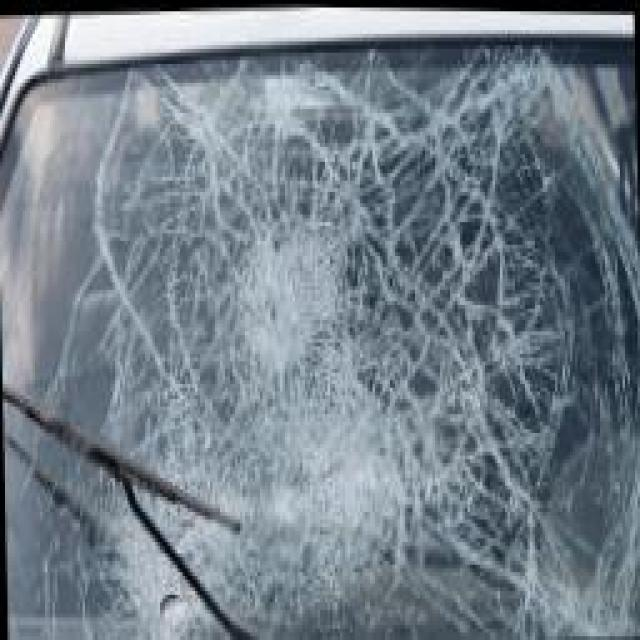Windshield: (0, 30, 640, 640)
